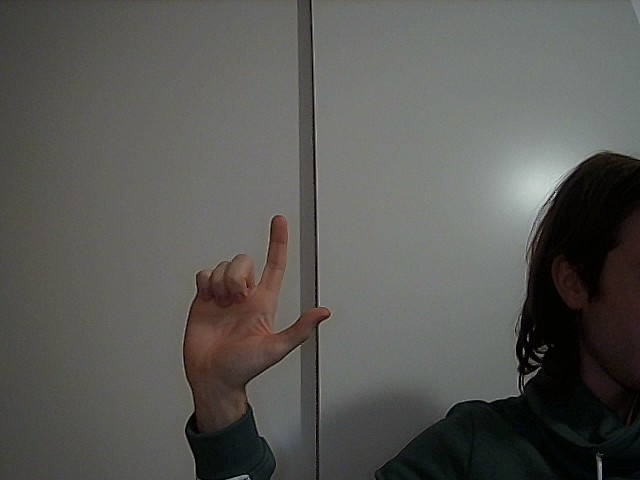l: (180, 206, 339, 374)
